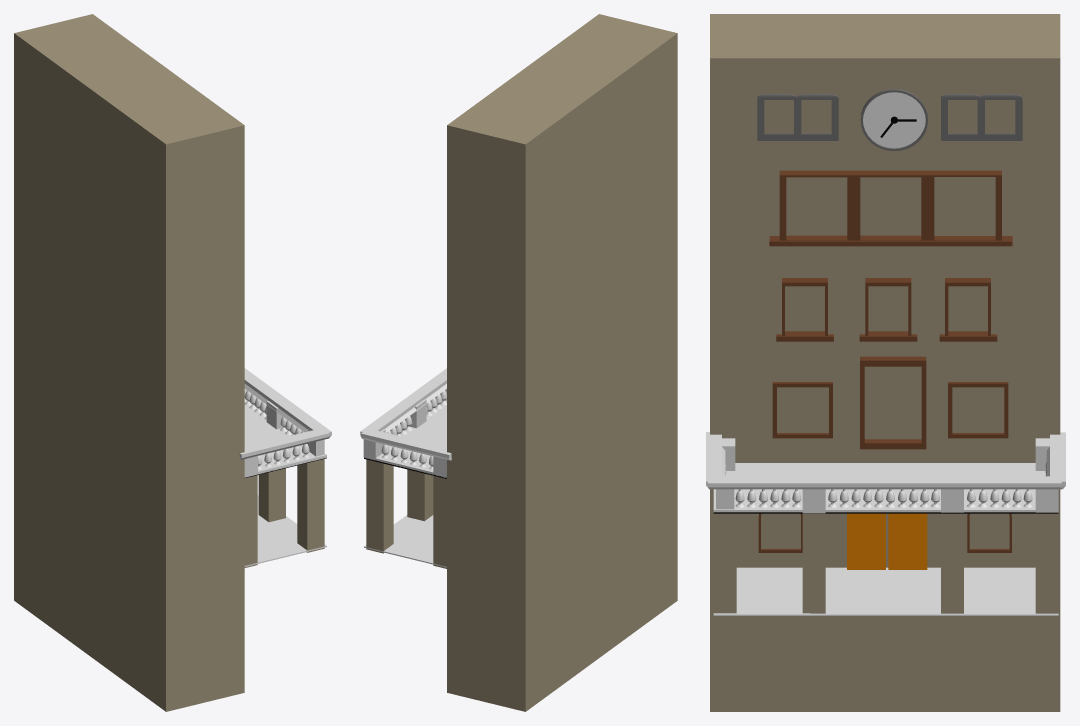
File: puerta_antigua_frontal.fbx
3 renders of one model, left to right at view 1: azimuth 30°, elevation 25°; view 2: azimuth 150°, elevation 25°; view 3: azimuth 270°, elevation 25°, orthographic. The views are drawn at different scales.
Parts seen in each view (by area): view 1: Cubo.018, Cubo.003, Cube, Suelo, Cubo.016, Cubo, Cubo.006, Cubo.015; view 2: Cubo.018, Cubo.001, Cube, Suelo, Cubo.016, Cubo.007, Cubo.002, Cubo.010; view 3: Cubo.018, Cube, Suelo, Cube.004, Cubo.016, Cylinder, Cubo.001, Cubo, Cubo.003, Cubo.002, Cubo.005, Cubo.019 (+15 smaller).
Boxes of the visible parts, bbox=[...] form: Cubo.018: bbox=[14, 14, 244, 711]; Cubo.003: bbox=[297, 459, 324, 552]; Cube: bbox=[244, 495, 326, 566]; Suelo: bbox=[244, 401, 326, 477]; Cubo.016: bbox=[244, 368, 331, 437]; Cubo: bbox=[258, 468, 285, 522]; Cubo.006: bbox=[244, 475, 257, 567]; Cubo.015: bbox=[239, 430, 329, 459]; Cubo.018: bbox=[447, 14, 677, 711]; Cubo.001: bbox=[366, 459, 393, 553]; Cube: bbox=[364, 515, 446, 567]; Suelo: bbox=[364, 401, 446, 477]; Cubo.016: bbox=[360, 368, 446, 435]; Cubo.007: bbox=[433, 476, 446, 568]; Cubo.002: bbox=[407, 469, 433, 521]; Cubo.010: bbox=[361, 428, 451, 460]; Cubo.018: bbox=[710, 14, 1060, 711]; Cube: bbox=[713, 567, 1058, 615]; Suelo: bbox=[713, 463, 1045, 512]; Cube.004: bbox=[779, 170, 1001, 240]; Cubo.016: bbox=[708, 476, 1062, 489]; Cylinder: bbox=[863, 92, 925, 148]; Cubo.001: bbox=[1035, 513, 1058, 613]; Cubo: bbox=[802, 513, 825, 613]; Cubo.003: bbox=[713, 513, 736, 613]; Cubo.002: bbox=[941, 513, 963, 613]; Cubo.005: bbox=[888, 513, 927, 569]; Cubo.019: bbox=[860, 356, 926, 449].
Bounding box in the file's own units: 1906 × 6271 × 3128.
